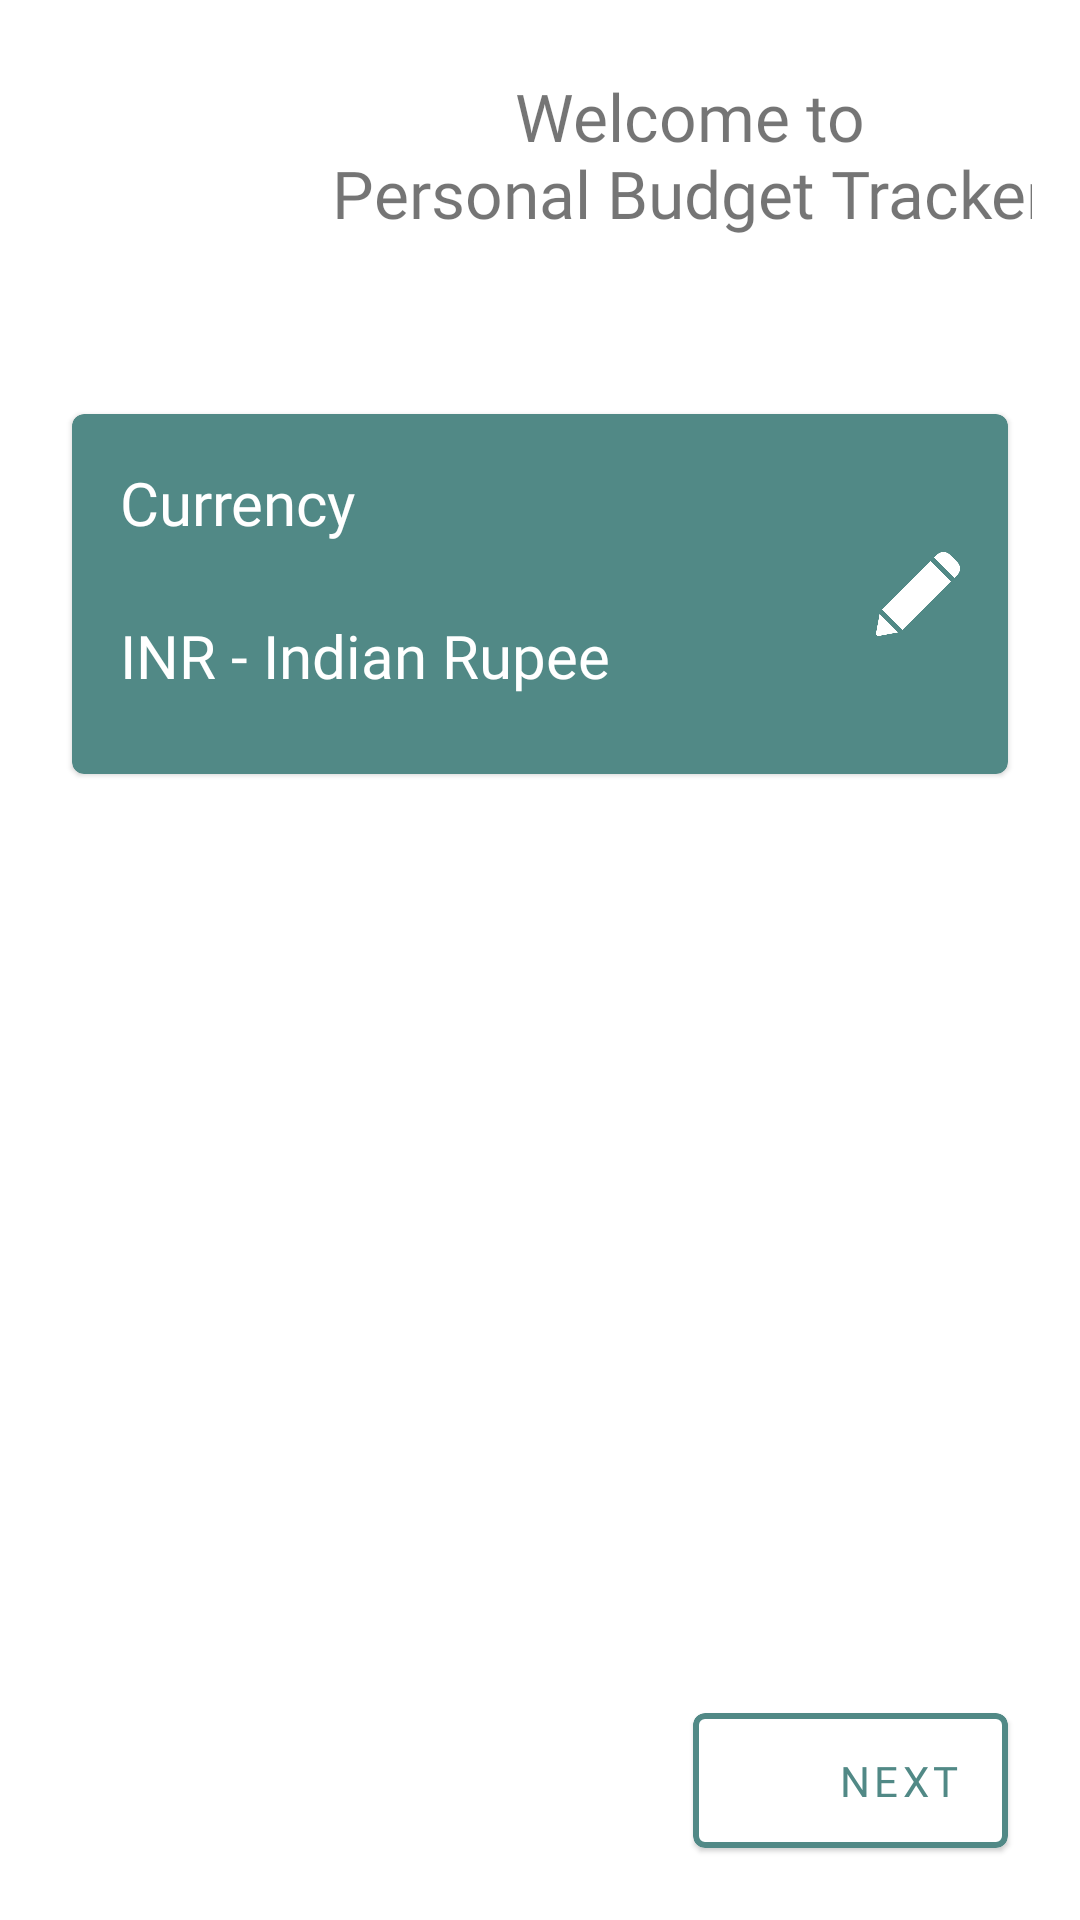

Screen size 1080 × 1920. Icon name, then its box in pixels as (x1, y1, x2, y2):
pencil: (876, 552, 960, 636)
